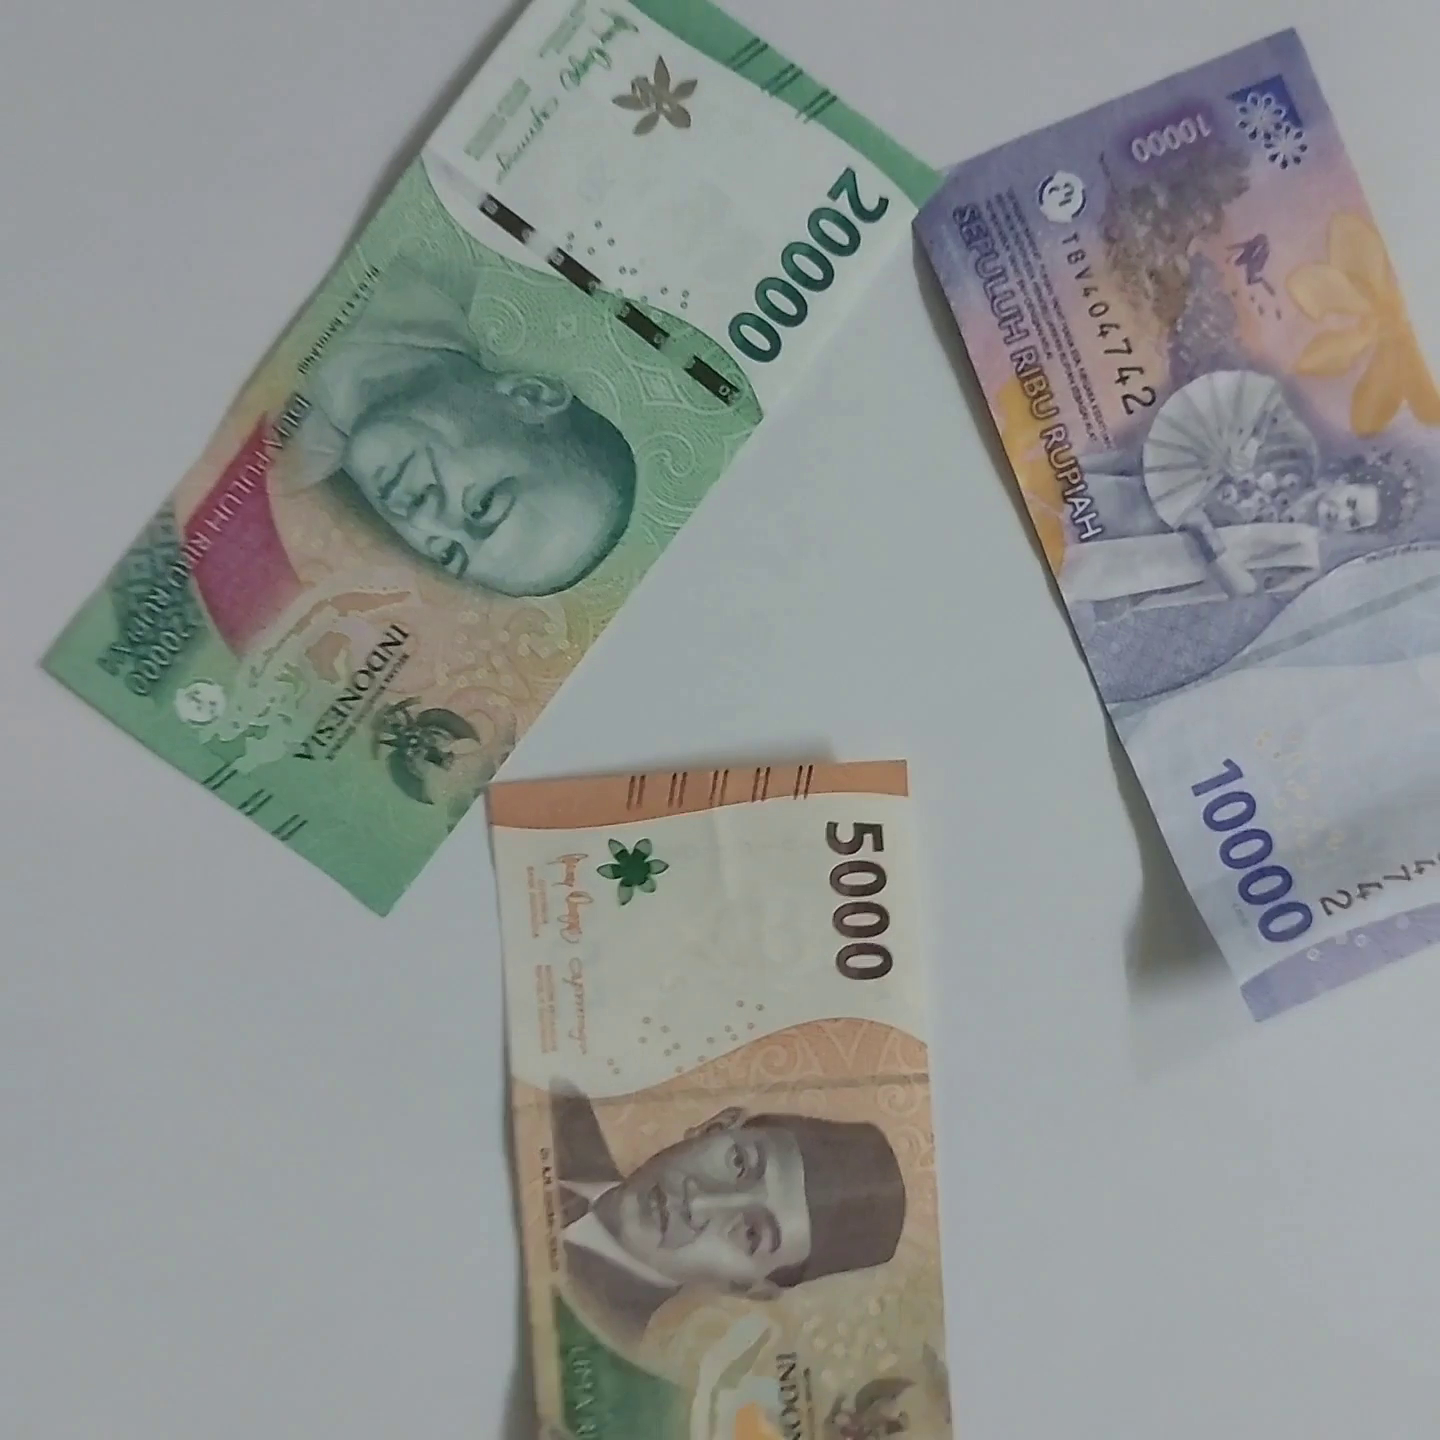10k: (930, 0, 1440, 1022)
20k: (61, 0, 922, 911)
5k: (471, 735, 981, 1440)
